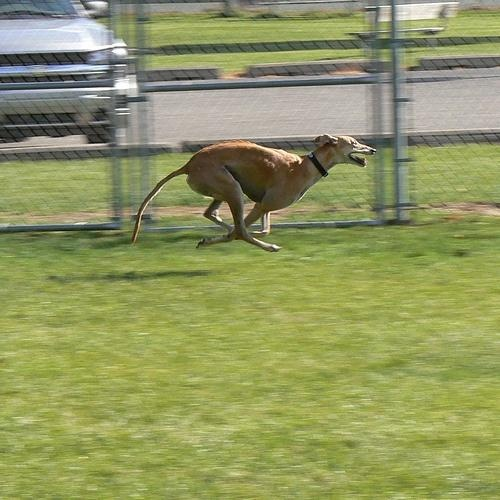car: (1, 1, 142, 149)
dog: (125, 125, 379, 260)
